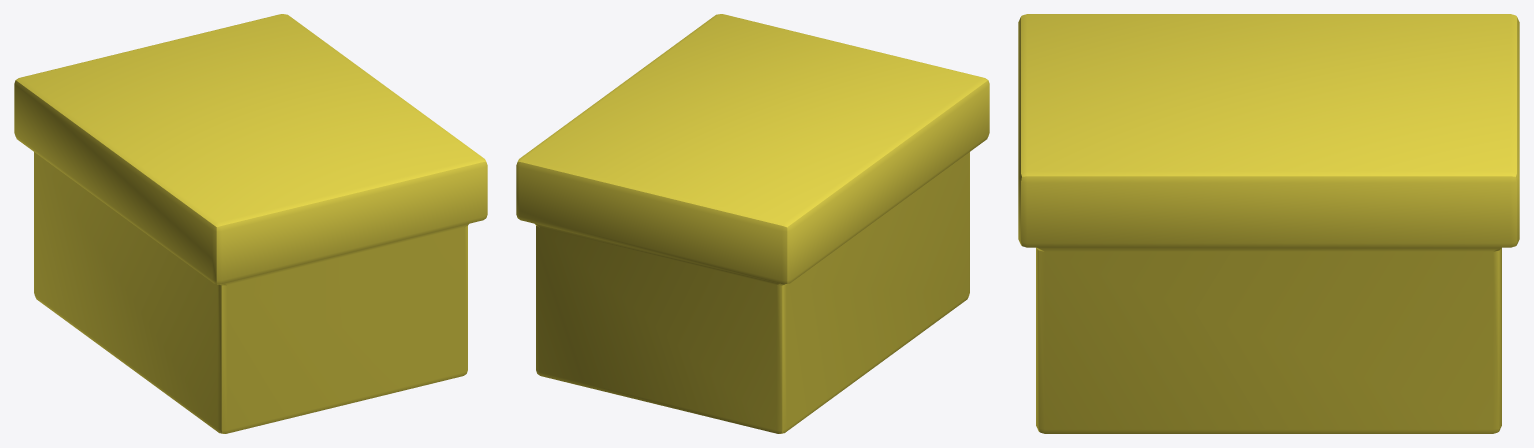
The picture shows the model from 3 angles, left to right: view 1: azimuth 30°, elevation 25°; view 2: azimuth 150°, elevation 25°; view 3: azimuth 270°, elevation 25°; orthographic projection. The views are drawn at different scales.
Visible parts, largest first — view 1: Box; view 2: Box; view 3: Box.
Part boxes in pixels (x1=…): Box: x1=14, y1=14, x2=487, y2=433; Box: x1=516, y1=14, x2=989, y2=433; Box: x1=1018, y1=14, x2=1519, y2=433.
Size of the model in its own units: 1.39 by 1.06 by 1.79.
